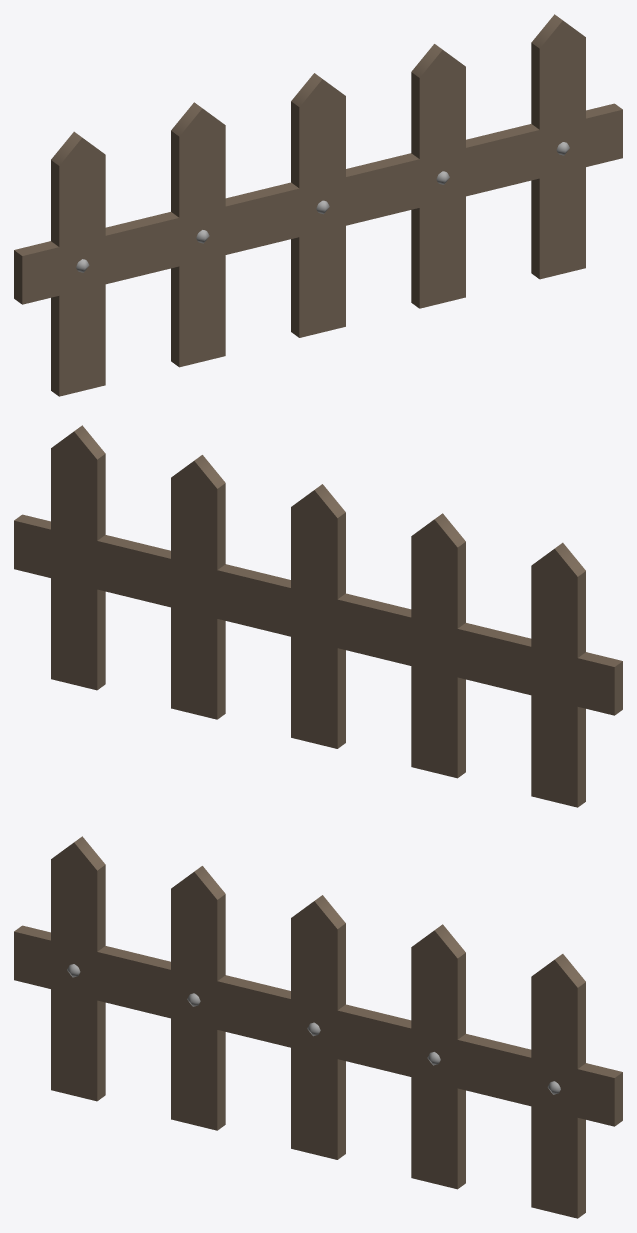
The model's file is FenceShort.fbx.
3 renders of one model, top to bottom at view 1: azimuth 30°, elevation 25°; view 2: azimuth 150°, elevation 25°; view 3: azimuth 330°, elevation 25°, orthographic.
Visible parts, largest first — view 1: Fence_Short; view 2: Fence_Short; view 3: Fence_Short.
Boxes of the visible parts, x1,y1,x2,y2 form: Fence_Short: (14,14,622,396); Fence_Short: (14,425,622,807); Fence_Short: (14,836,622,1218).
Bounding box in the file's own units: 5 × 2.02 × 0.1642.
